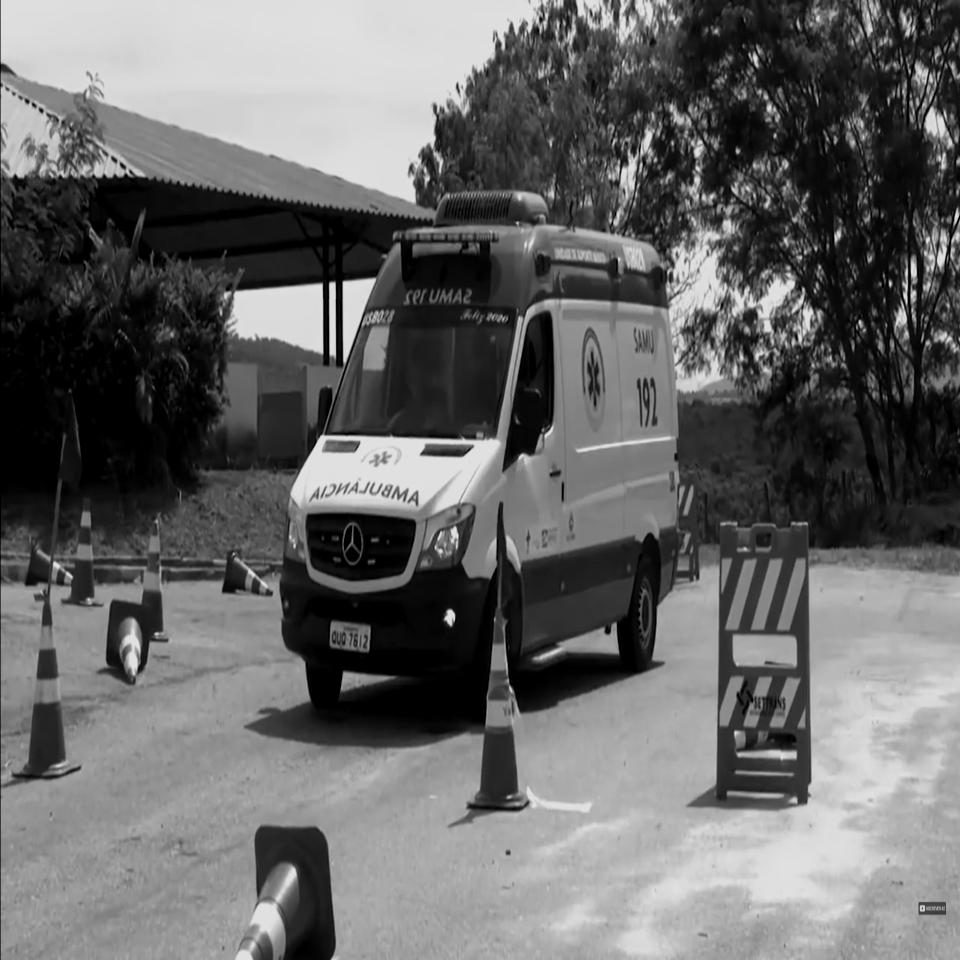ambulancia: (279, 190, 680, 714)
